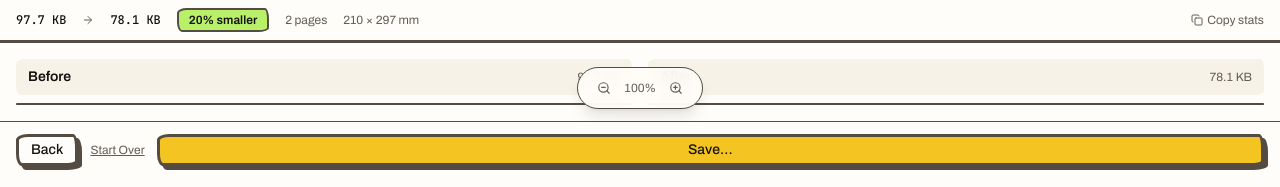
Test: CompareStep — zoom controls › zoom-out is disabled at minimum zoom (50%)
Note: 100% → 75% → 50% (2 clicks)
Click the button named "zoom out" at point(604, 88), box [590,74,618,102]
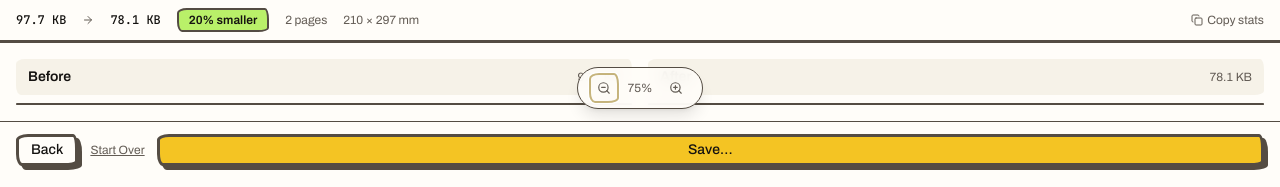
Click the button named "zoom out" at point(604, 88), box [590,74,618,102]
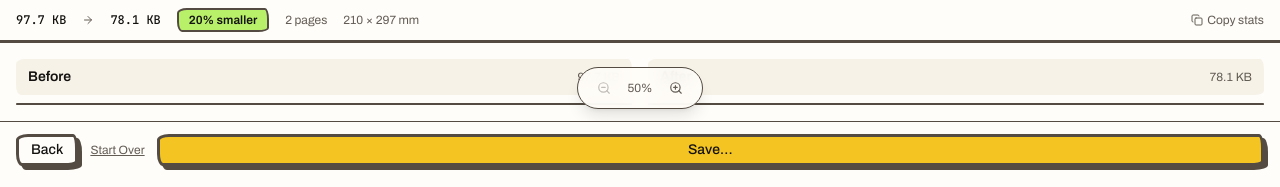
Check: the button named "zoom out" is disabled, box [590,74,618,102]
